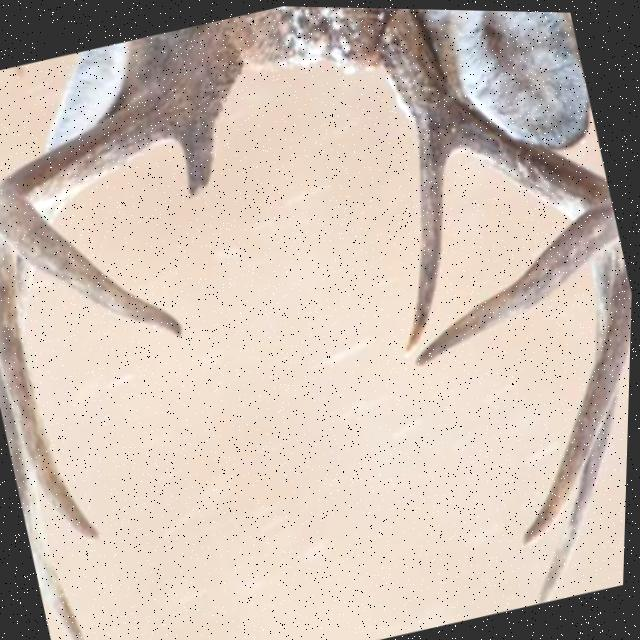L-F: (366, 7, 623, 368)
L-G1: (403, 138, 454, 359)
L-G3: (523, 249, 633, 544)
R-F: (0, 18, 244, 338)
R-G1: (179, 120, 215, 199)
R-G3: (0, 233, 103, 539)
